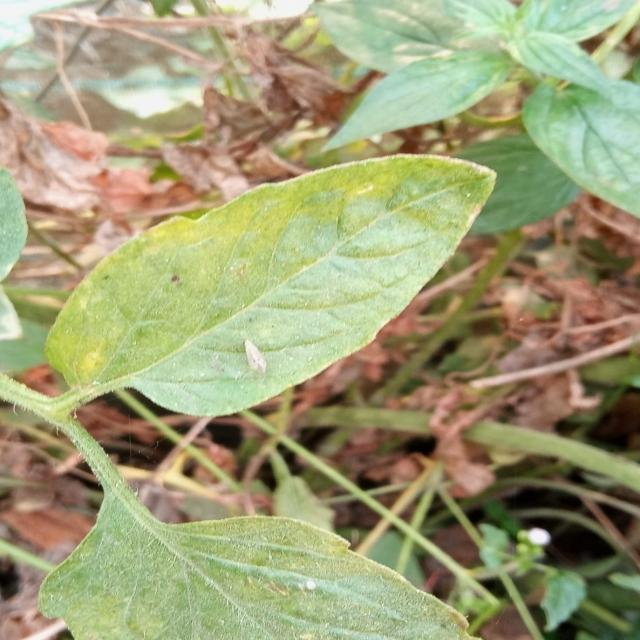Healthy: (17, 108, 539, 467), (40, 494, 468, 640)
